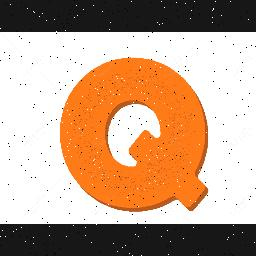q: (56, 54, 210, 214)
